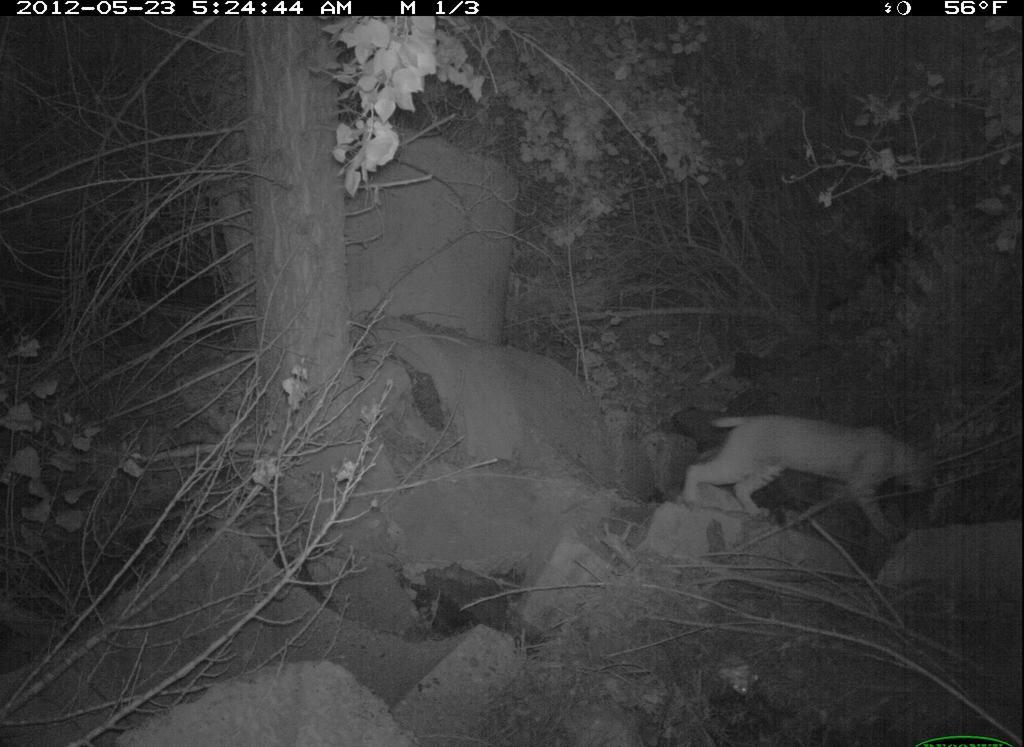bobcat: (680, 411, 944, 545)
